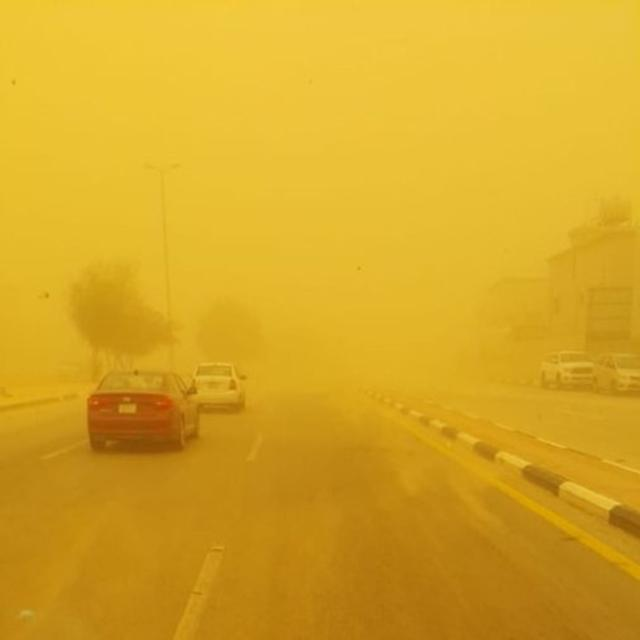car: (86, 370, 200, 452), (193, 362, 245, 411), (539, 350, 595, 390), (594, 352, 639, 394)
